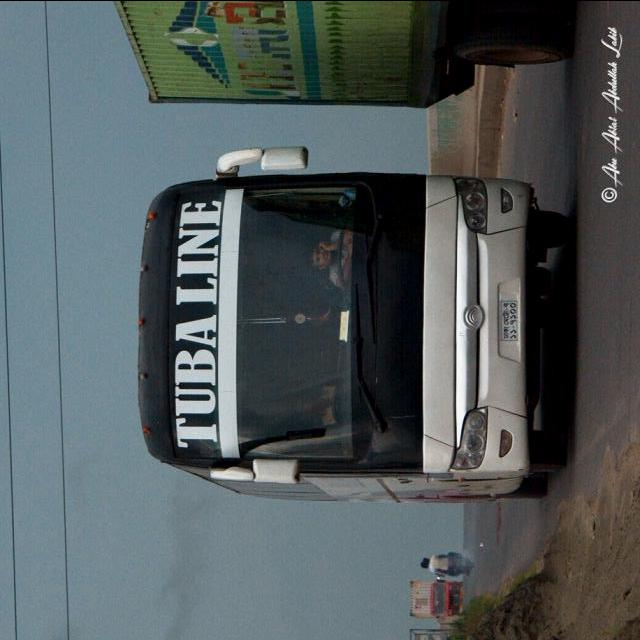bus: (135, 147, 573, 504)
